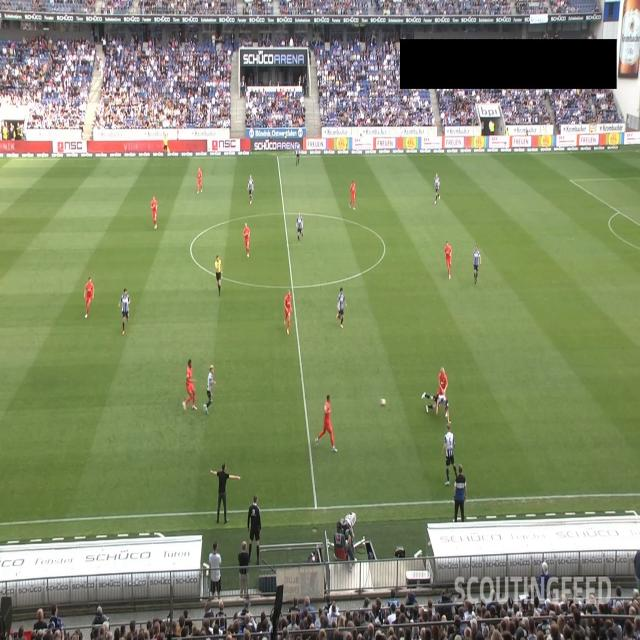ball: (378, 397, 386, 407)
